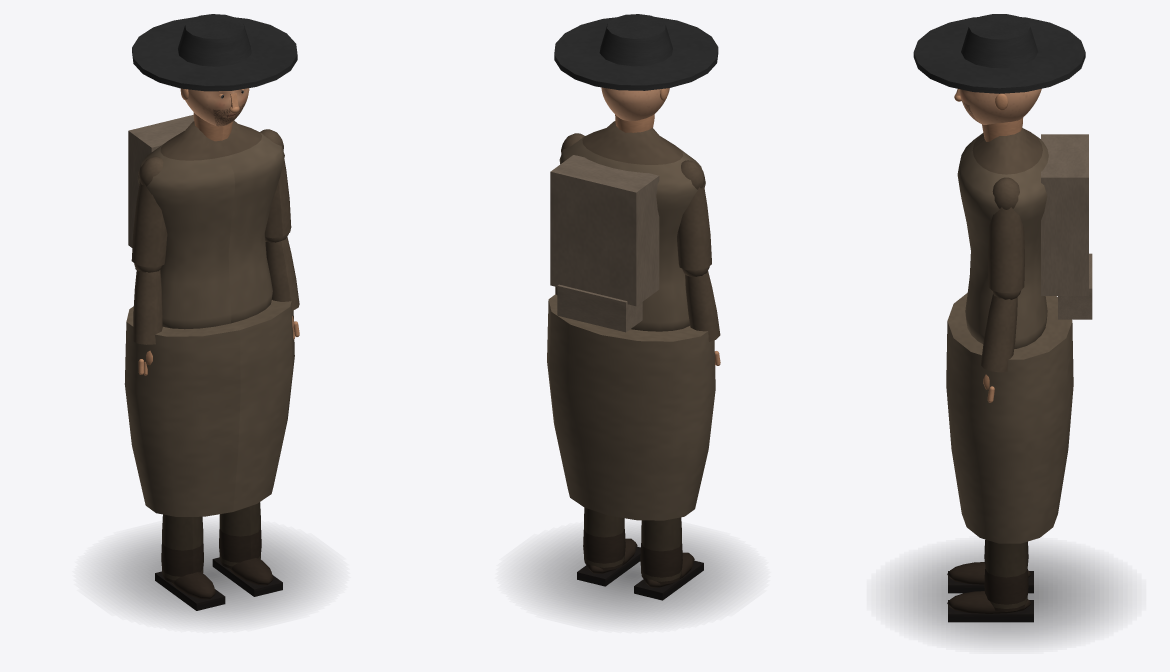
Rendered from npc_pockets.glb.
The picture shows the model from 3 angles, left to right: view 1: azimuth 30°, elevation 25°; view 2: azimuth 150°, elevation 25°; view 3: azimuth 270°, elevation 25°; orthographic projection. The views are drawn at different scales.
Visible parts, largest first — view 1: object 7, chest, head, object 12, shinL, shinR, armL, foreL, foreR, armR; view 2: object 7, chest, head, object 12, shinL, shinR, armL, foreL; view 3: object 7, chest, head, object 12, shinR, armR, foreR, shinL.
Part boxes in pixels (x1=…): object 7: x1=124, y1=300, x2=294, y2=516; chest: x1=128, y1=112, x2=284, y2=329; head: x1=132, y1=14, x2=297, y2=126; object 12: x1=101, y1=528, x2=321, y2=621; shinL: x1=155, y1=514, x2=225, y2=610; shinR: x1=212, y1=502, x2=282, y2=596; armL: x1=131, y1=156, x2=167, y2=267; foreL: x1=133, y1=263, x2=162, y2=375; foreR: x1=265, y1=233, x2=299, y2=339; armR: x1=260, y1=129, x2=291, y2=238; object 7: x1=547, y1=294, x2=715, y2=520; chest: x1=550, y1=114, x2=705, y2=332; head: x1=554, y1=14, x2=718, y2=121; object 12: x1=523, y1=529, x2=742, y2=621; shinL: x1=634, y1=517, x2=703, y2=600; shinR: x1=577, y1=507, x2=640, y2=586; armL: x1=677, y1=160, x2=711, y2=270; foreL: x1=682, y1=266, x2=720, y2=365; object 7: x1=946, y1=293, x2=1073, y2=543; chest: x1=957, y1=117, x2=1092, y2=348; head: x1=913, y1=14, x2=1085, y2=124; object 12: x1=894, y1=548, x2=1118, y2=642; shinR: x1=947, y1=540, x2=1033, y2=622; armR: x1=988, y1=177, x2=1024, y2=292; foreR: x1=981, y1=290, x2=1020, y2=402; shinL: x1=947, y1=539, x2=1033, y2=593.
Size of the model in its own units: 0.9722 by 2.06 by 0.9722.
6 materials, 5 textured.
